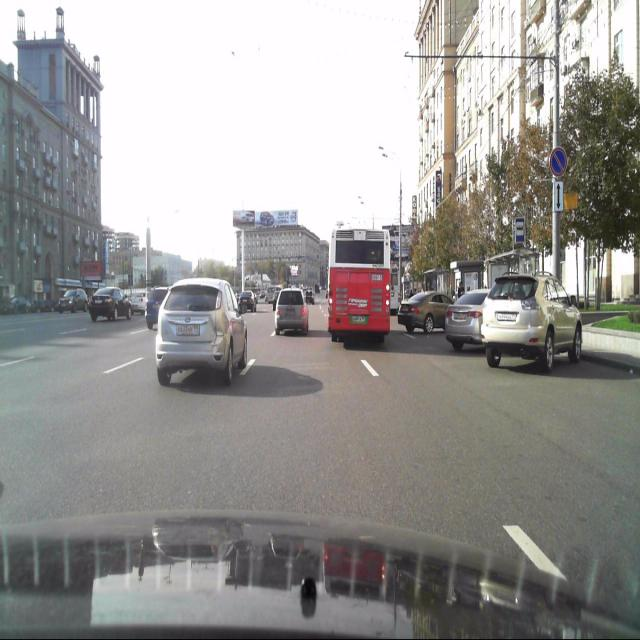road sign: (553, 181, 563, 214), (514, 219, 524, 244)
